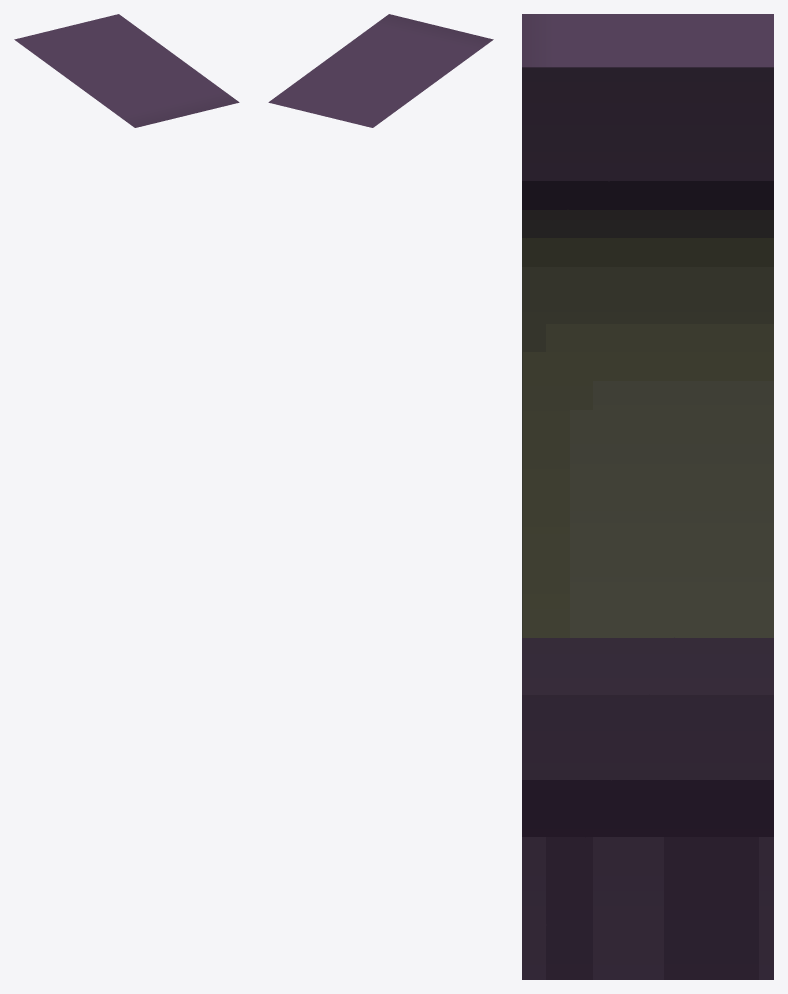
3 views of the same model, side by side, from view 1: azimuth 30°, elevation 25°; view 2: azimuth 150°, elevation 25°; view 3: azimuth 270°, elevation 25° (orthographic). The views are drawn at different scales.
Bounding box in the file's own units: 0.5 × 4 × 1.
2 materials, 2 textured.
